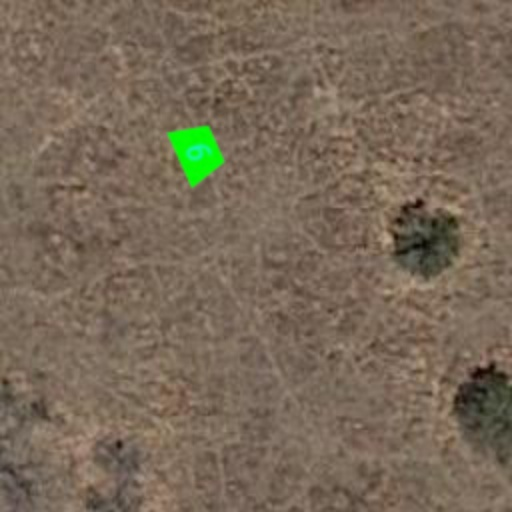trapezoid: (156, 110, 240, 194)
